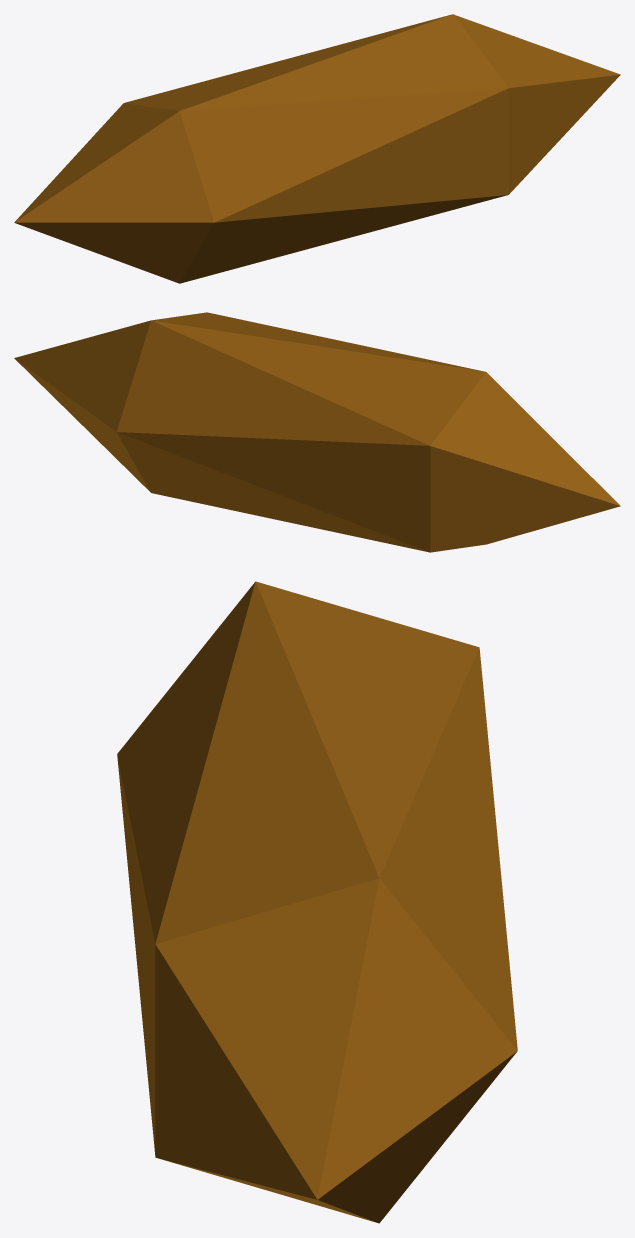
File: RiceGrain.obj
3 renders of one model, top to bottom at view 1: azimuth 30°, elevation 25°; view 2: azimuth 150°, elevation 25°; view 3: azimuth 270°, elevation 25°, orthographic. The views are drawn at different scales.
Visible parts, largest first — view 1: Icosphere.001; view 2: Icosphere.001; view 3: Icosphere.001.
Part boxes in pixels (x1=…): Icosphere.001: x1=14, y1=14, x2=620, y2=283; Icosphere.001: x1=14, y1=312, x2=620, y2=552; Icosphere.001: x1=117, y1=581, x2=517, y2=1223.
Bounding box in the file's own units: 1.03 × 0.2807 × 0.2952.
